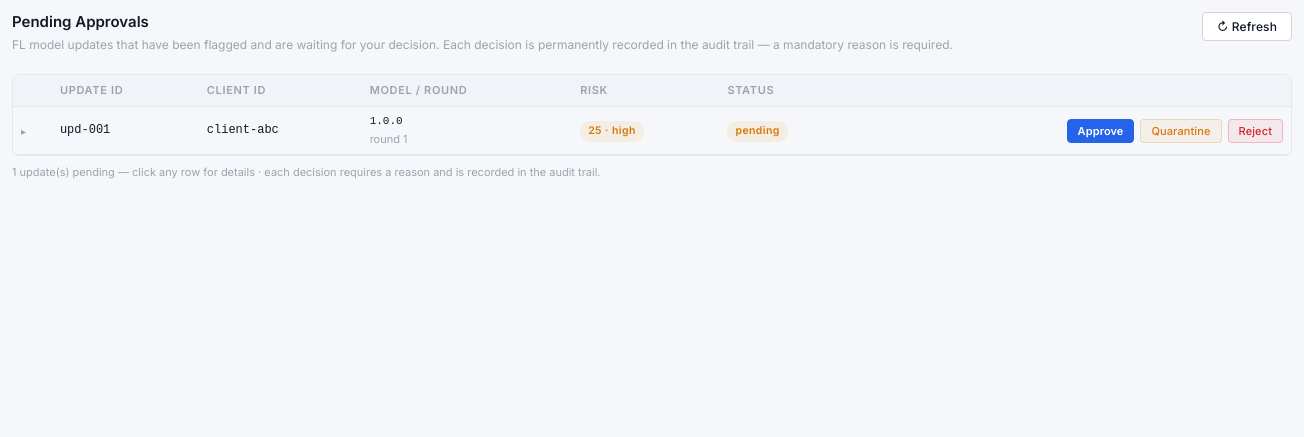
it: Approvals › opens quarantine confirmation panel
The image size is (1304, 437).
Click the button "Quarantine" at (1181, 131), box x1=1140 y1=119 x2=1222 y2=143
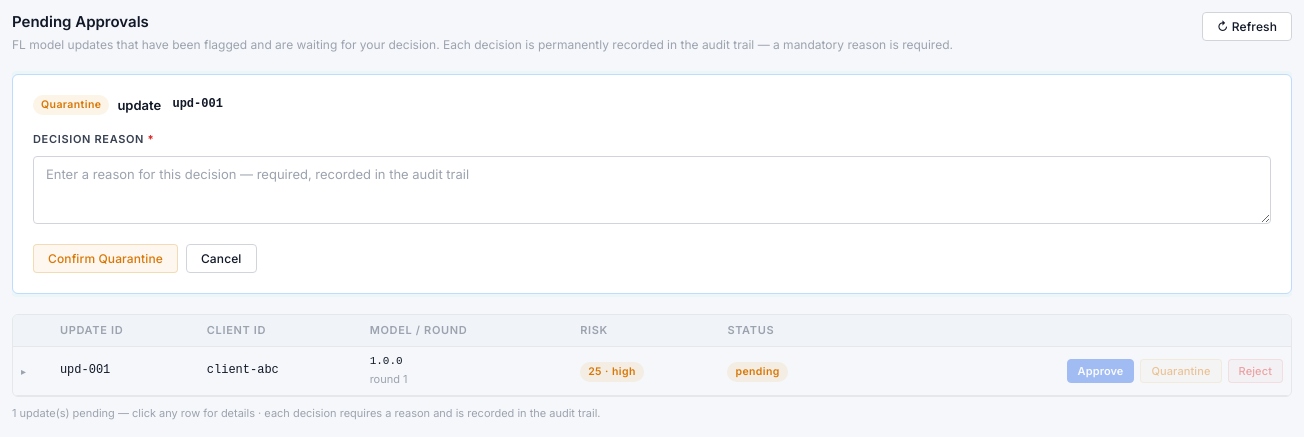
Expected: the button "Confirm Quarantine" is shown, x1=33 y1=244 x2=178 y2=273
